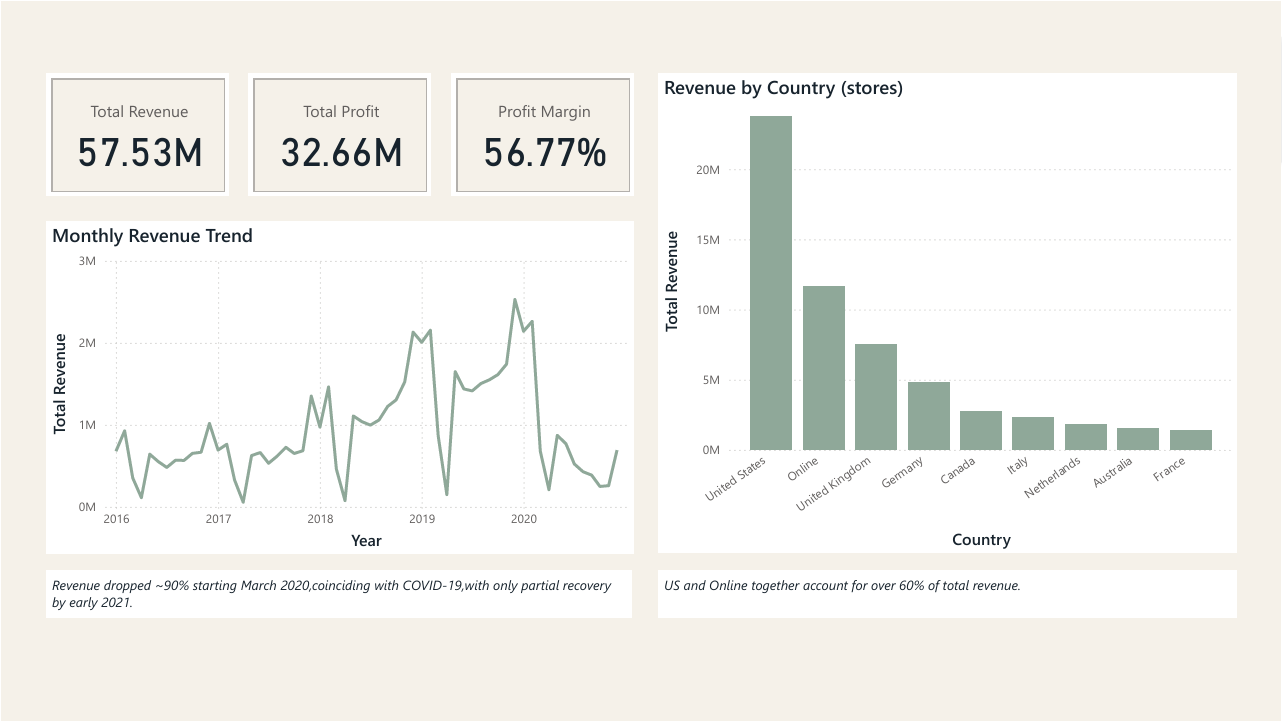

The page's visual inventory and layout, read from the dashboard file:
{"tool":"powerbi","page":{"name":"Overview","canvas":[1280,720],"ordinal":0},"visuals":[{"type":"cardVisual","fields":{"Data":["sales.Total Revenue"]},"box":[45,72,183,123],"z":0},{"type":"lineChart","title":"Monthly Revenue Trend","fields":{"Category":["sales.OrderDate.Variation.Date Hierarchy.Year","sales.OrderDate.Variation.Date Hierarchy.Quarter","sales.OrderDate.Variation.Date Hierarchy.Month","sales.OrderDate.Variation.Date Hierarchy.Day"],"Y":["sales.Total Revenue"]},"box":[45,220,588,333],"z":1000},{"type":"clusteredColumnChart","title":"Revenue by Country (stores)","fields":{"Category":["stores.Country"],"Y":["sales.Total Revenue"]},"box":[657,72,579,480],"z":2000},{"type":"textbox","box":[45,569,586,48],"z":3000},{"type":"cardVisual","fields":{"Data":["sales.Total Profit"]},"box":[247,72,183,123],"z":4000},{"type":"cardVisual","fields":{"Data":["sales.Profit Margin"]},"box":[450,72,183,123],"z":5000},{"type":"textbox","box":[657,569,579,48],"z":6000}]}

Visuals, with their boxes in screenshot pixels (x1, y1, x2, y2), scaled from the page's 1280x720 canvas onto the 1283x724 screenshot:
cardVisual - sales.Total Revenue: Rect(45, 72, 229, 196)
"Monthly Revenue Trend" lineChart: Rect(45, 221, 634, 556)
"Revenue by Country (stores)" clusteredColumnChart: Rect(659, 72, 1239, 555)
textbox: Rect(45, 572, 632, 620)
cardVisual - sales.Total Profit: Rect(248, 72, 431, 196)
cardVisual - sales.Profit Margin: Rect(451, 72, 634, 196)
textbox: Rect(659, 572, 1239, 620)
